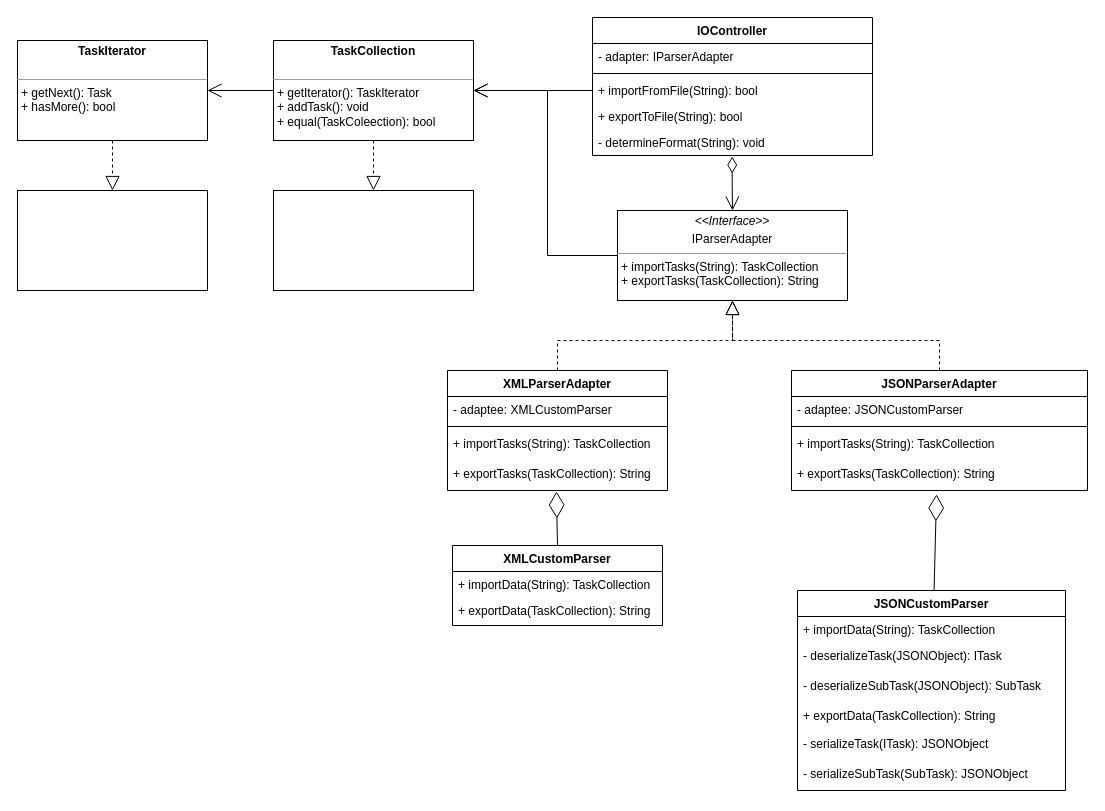
Image size: 1105x811. Some labels were removed from this diagram. The shapes that lost their labels are listed below. From the top down, each one's centre as x and y in pixels, then its label:
At point (112, 240): "<<Interface>> Iterator + getNext(): Task + hasMore(): bool".
At point (373, 240): "<<Interface>> Collection + getIterator(): Iterator".
